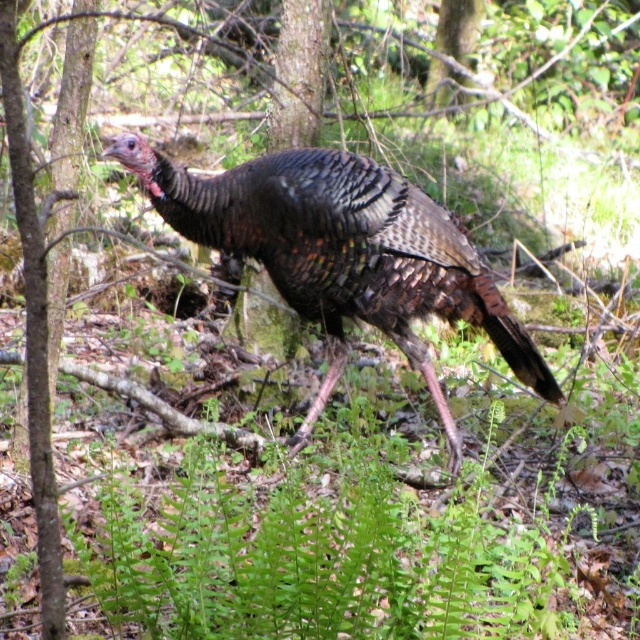Turkey: (101, 131, 567, 478)
